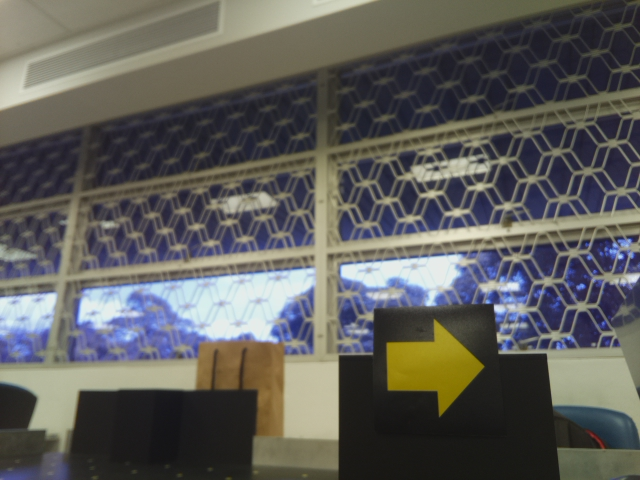right: (385, 312, 487, 427)
